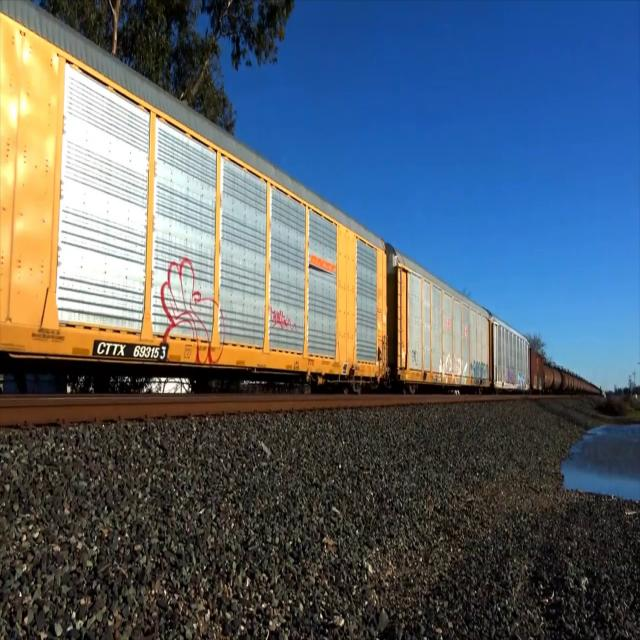autorack: (0, 0, 388, 395), (386, 235, 493, 393), (492, 314, 530, 393)
tank: (543, 359, 554, 391), (553, 363, 562, 390)
